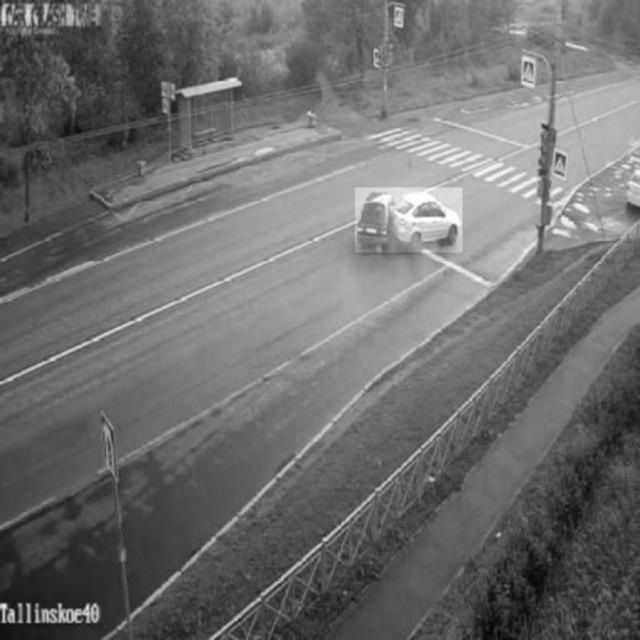accident: (355, 187, 463, 251)
